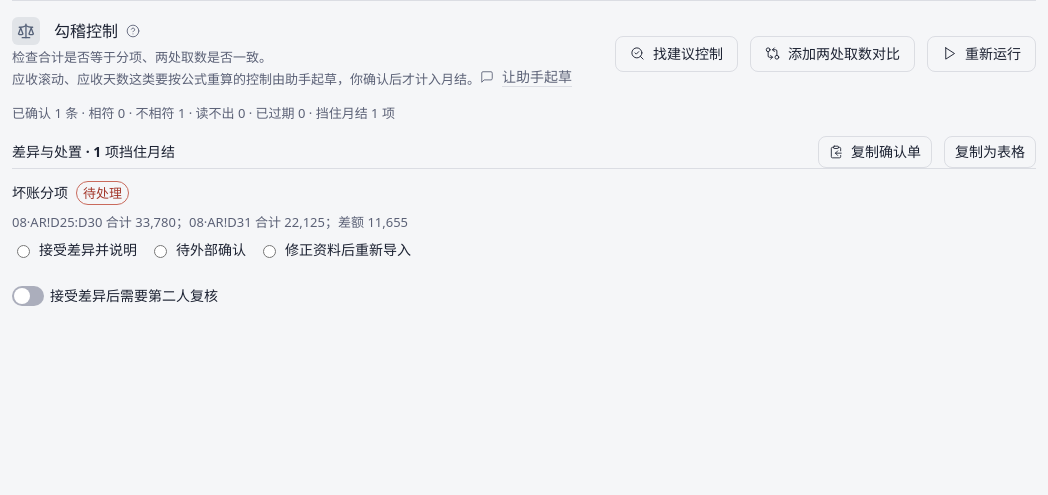
Test: asks who confirms a difference sent out for confirmation
Click the radio button labelled "待外部确认" at (160, 252), box x1=154 y1=245 x2=167 y2=258
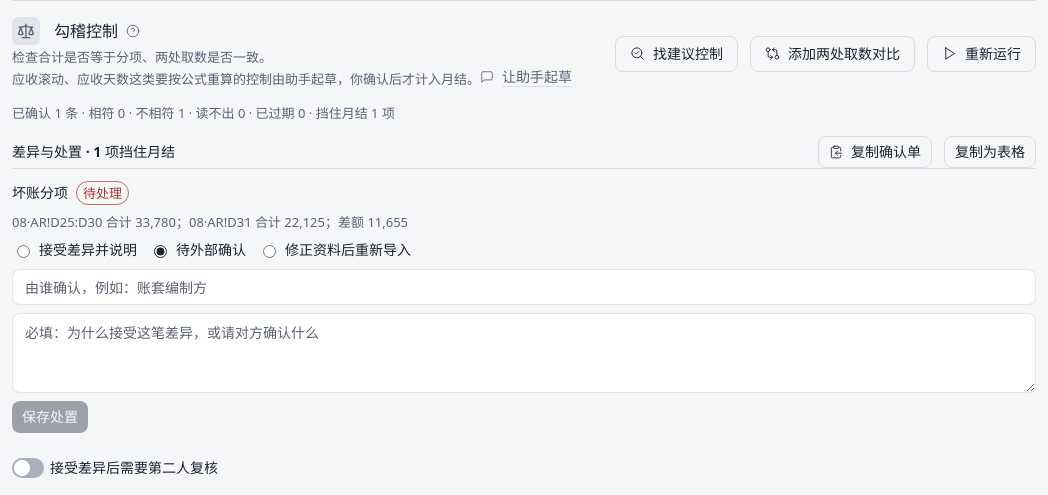
Type "请确认计提比例" into the text box named "说明" at (524, 353), box x1=12 y1=313 x2=1036 y2=393
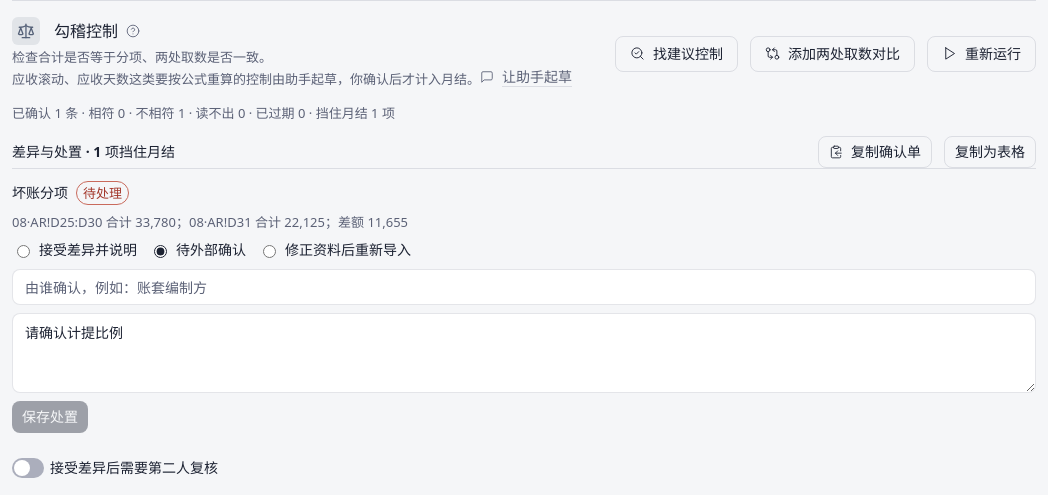
Result: the button "保存处置" is disabled at x1=12 y1=401 x2=88 y2=433
Type "账套编制方" into the field labelled "由谁确认" at (524, 287), box x1=12 y1=269 x2=1036 y2=305
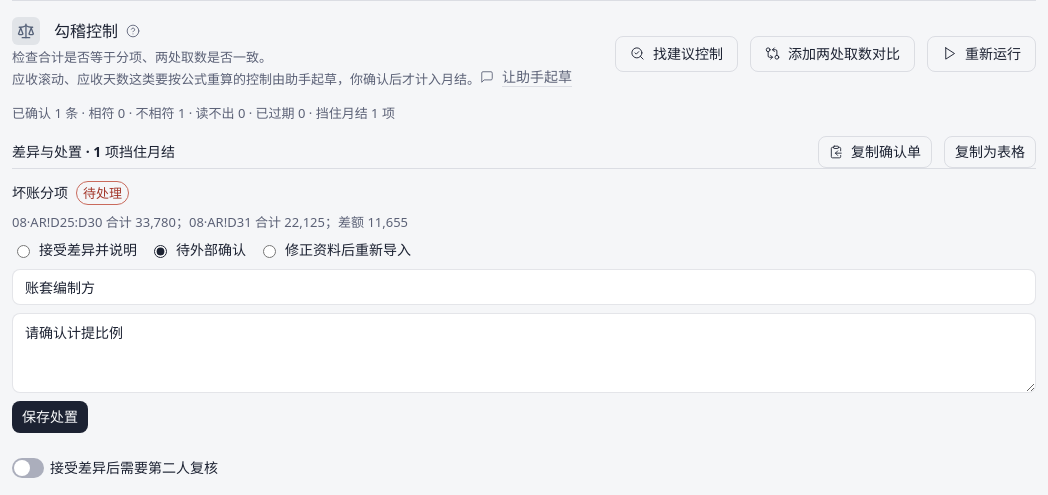
Result: the button "保存处置" is enabled at x1=12 y1=401 x2=88 y2=433
